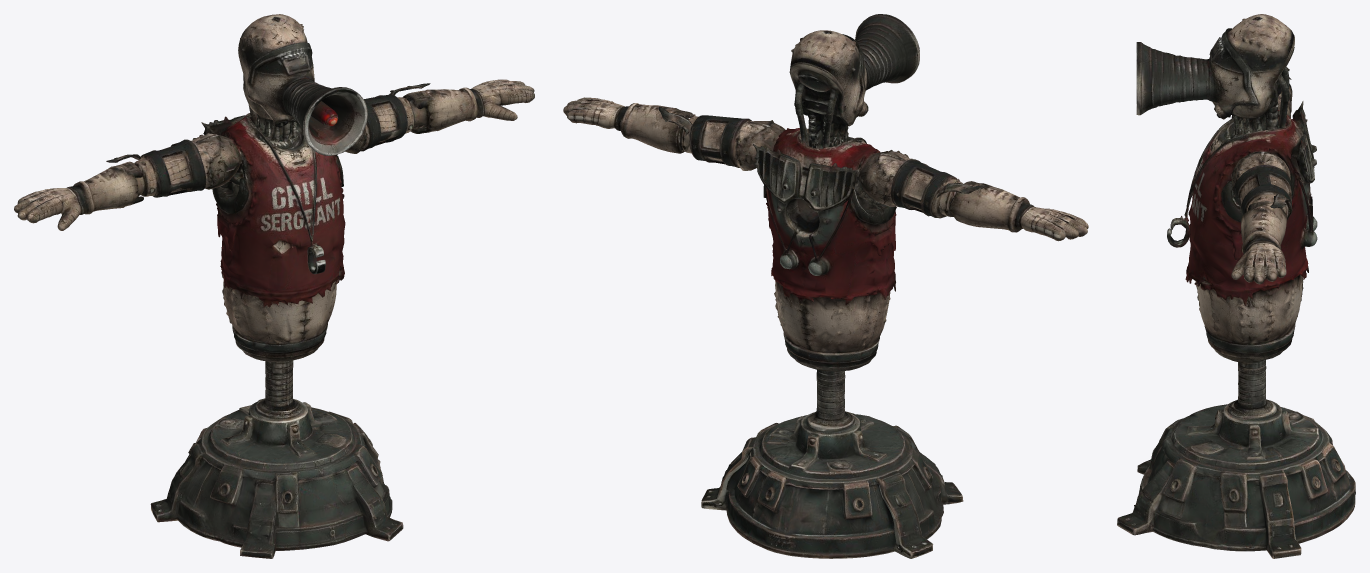
Rendered from drill_sergeant2.glb.
3 views of the same model, side by side, from view 1: azimuth 30°, elevation 25°; view 2: azimuth 150°, elevation 25°; view 3: azimuth 270°, elevation 25° (orthographic).
Bounding box in the file's own units: 1.9 × 1.7 × 0.7547.
Materials: 1 (1 with a texture image).
